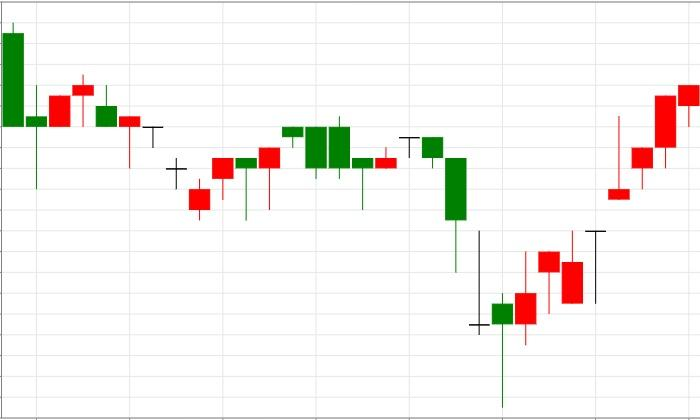hammer_rise: (399, 136, 514, 408)
hanging_man_fall: (491, 251, 561, 408)
